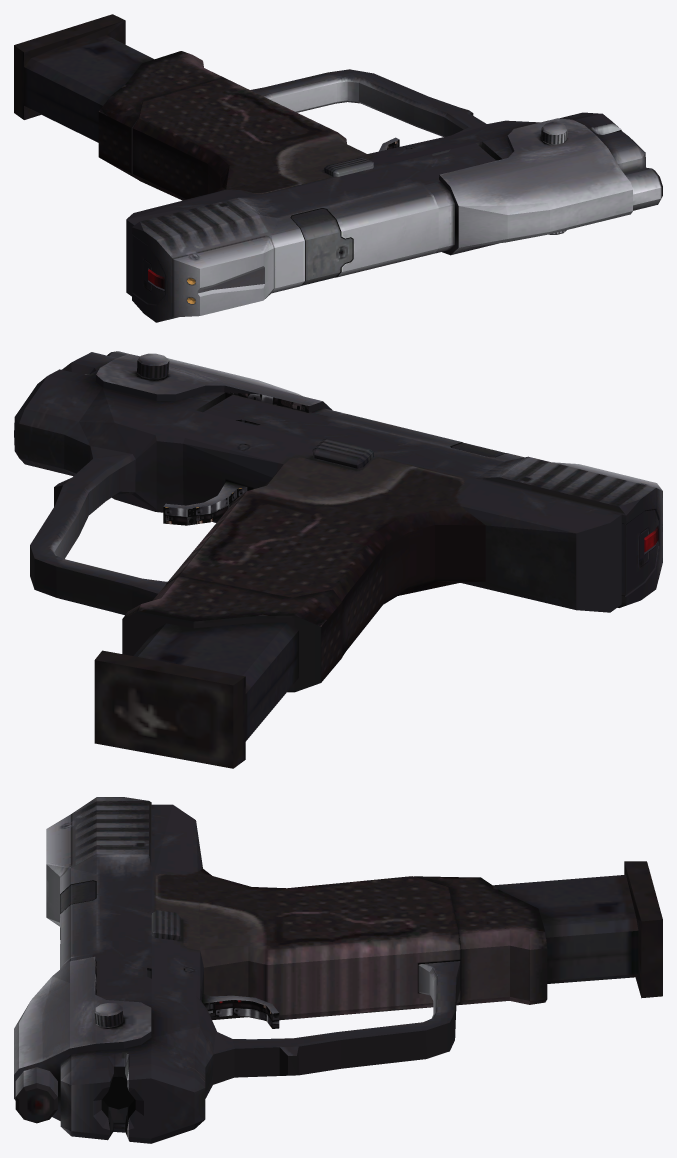
Rendered from Pistol.obj.
The picture shows the model from 3 angles, top to bottom: view 1: azimuth 30°, elevation 25°; view 2: azimuth 150°, elevation 25°; view 3: azimuth 270°, elevation 25°; orthographic projection. The views are drawn at different scales.
Visible parts, largest first — view 1: Mesh1 skpCD6F1 Model, Mesh9 skpCD6F1 Model, Mesh3 skpCD6F1 Model, Mesh7 skpCD6F1 Model, Mesh10 skpCD6F1 Model, Mesh8 skpCD6F1 Model; view 2: Mesh1 skpCD6F1 Model, Mesh3 skpCD6F1 Model, Mesh9 skpCD6F1 Model, Mesh2 skpCD6F1 Model, Mesh10 skpCD6F1 Model, Mesh8 skpCD6F1 Model; view 3: Mesh1 skpCD6F1 Model, Mesh3 skpCD6F1 Model, Mesh9 skpCD6F1 Model, Mesh7 skpCD6F1 Model, Mesh2 skpCD6F1 Model, Mesh10 skpCD6F1 Model, Mesh8 skpCD6F1 Model.
Part boxes in pixels (x1,y1,x2,y2): Mesh1 skpCD6F1 Model: [98, 51, 645, 322]; Mesh9 skpCD6F1 Model: [439, 118, 632, 255]; Mesh3 skpCD6F1 Model: [14, 14, 153, 142]; Mesh7 skpCD6F1 Model: [624, 167, 662, 210]; Mesh10 skpCD6F1 Model: [324, 157, 374, 176]; Mesh8 skpCD6F1 Model: [541, 122, 567, 144]; Mesh1 skpCD6F1 Model: [14, 352, 662, 692]; Mesh3 skpCD6F1 Model: [94, 622, 298, 768]; Mesh9 skpCD6F1 Model: [95, 354, 332, 412]; Mesh2 skpCD6F1 Model: [163, 481, 247, 525]; Mesh10 skpCD6F1 Model: [312, 438, 373, 468]; Mesh8 skpCD6F1 Model: [137, 353, 169, 379]; Mesh1 skpCD6F1 Model: [46, 797, 547, 1143]; Mesh3 skpCD6F1 Model: [493, 861, 662, 998]; Mesh9 skpCD6F1 Model: [14, 956, 151, 1132]; Mesh7 skpCD6F1 Model: [15, 1067, 57, 1123]; Mesh2 skpCD6F1 Model: [202, 994, 279, 1028]; Mesh10 skpCD6F1 Model: [151, 910, 180, 940]; Mesh8 skpCD6F1 Model: [94, 1003, 123, 1027].
Bounding box in the file's own units: 22.34 × 4.67 × 23.15.
1 material, 1 textured.
